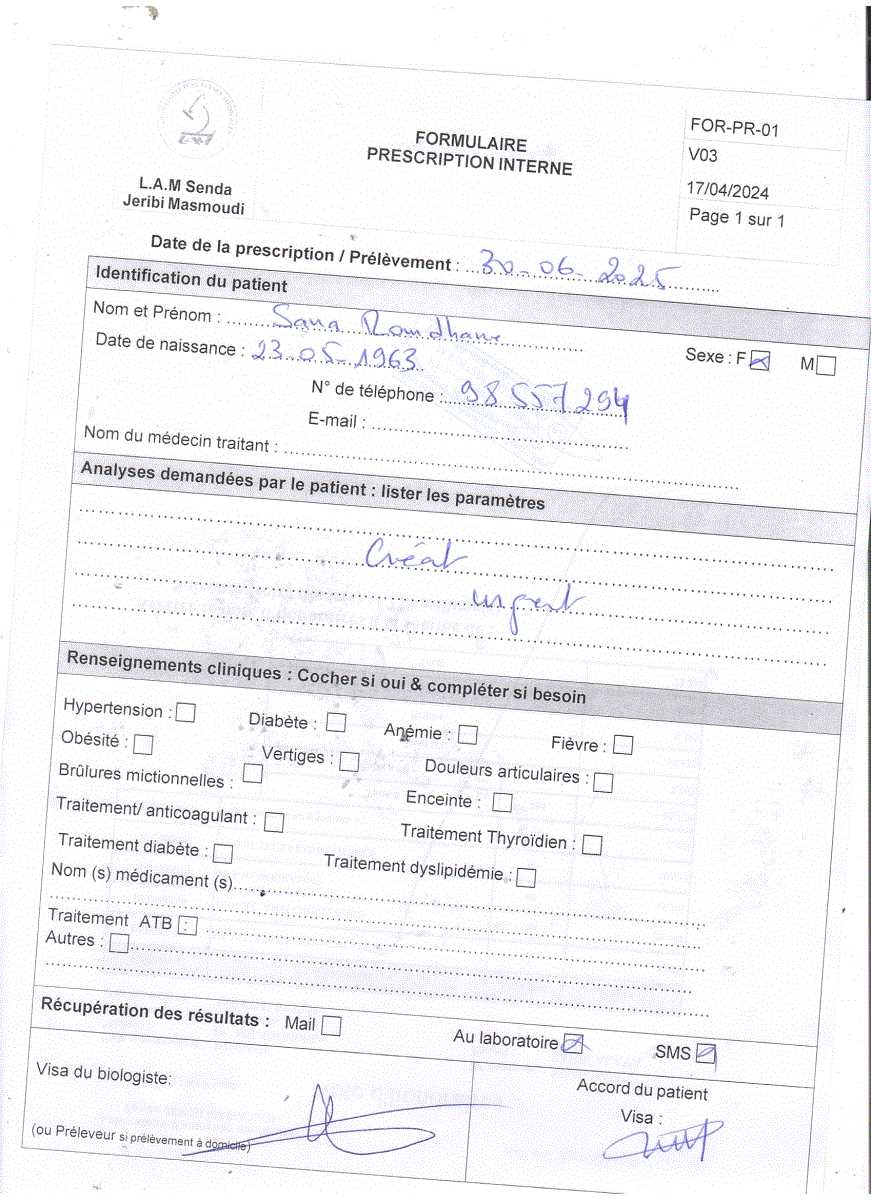zone_analyses: (82, 444, 676, 629)
zone_patient: (125, 214, 719, 258)
zone_prescripteur: (84, 252, 865, 420)
